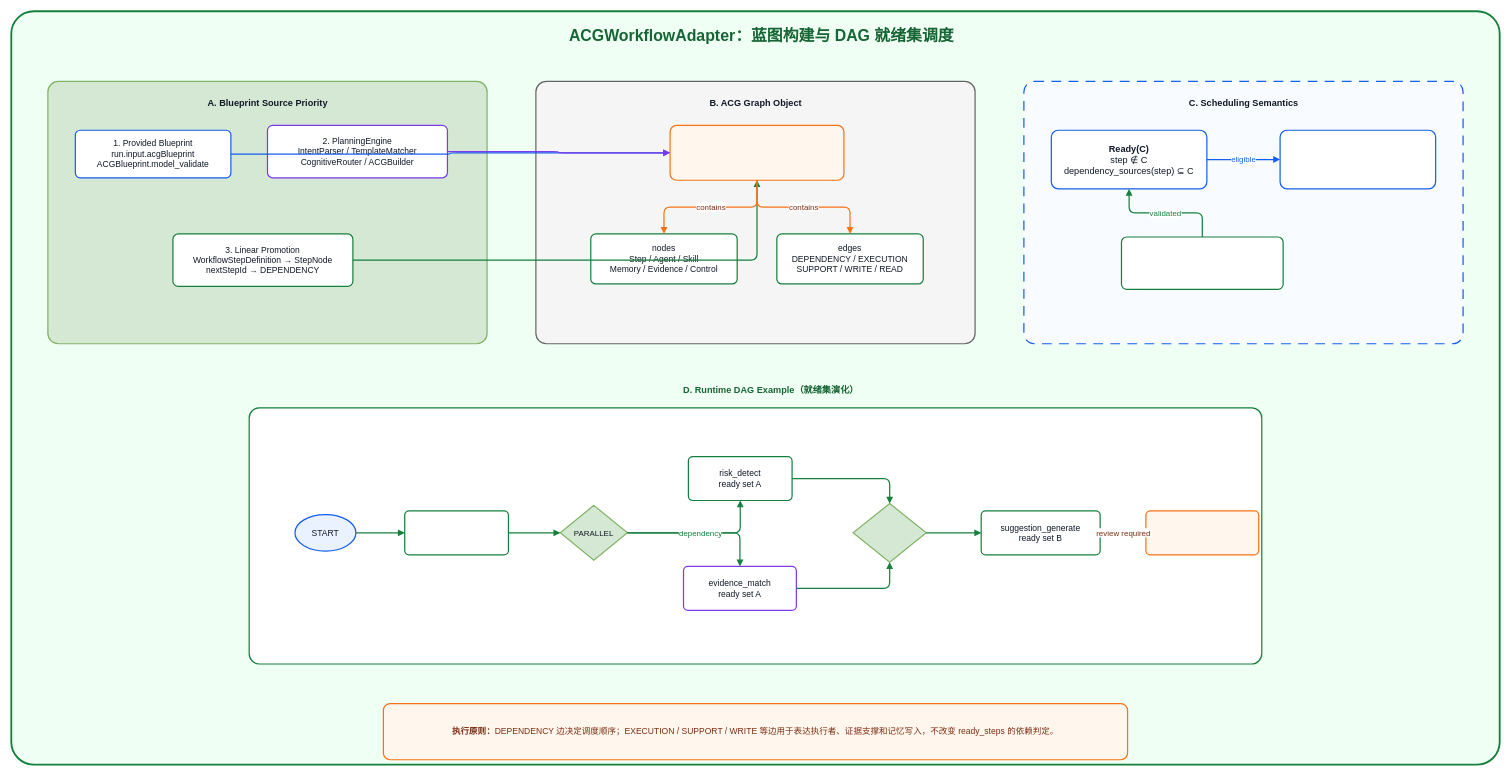
Image size: 1511x776. Some labels were removed from this diagram. The shapes that lost their labels are listed below. From the top down, each one's centre as x and y in pixels, then its label:
At pixel 756 152: "ACGBlueprint graphId / taskId / objective complexityLevel / metadata".
At pixel 1357 159: "Batch ready[:max_parallelism] asyncio.gather".
At pixel 1202 263: "validate_blueprint find_dangling_dependencies detect_cycle".
At pixel 456 532: "parse_contract StepNode".
At pixel 889 532: "CONSENSUS".
At pixel 1202 532: "human_review WAITING_REVIEW".
